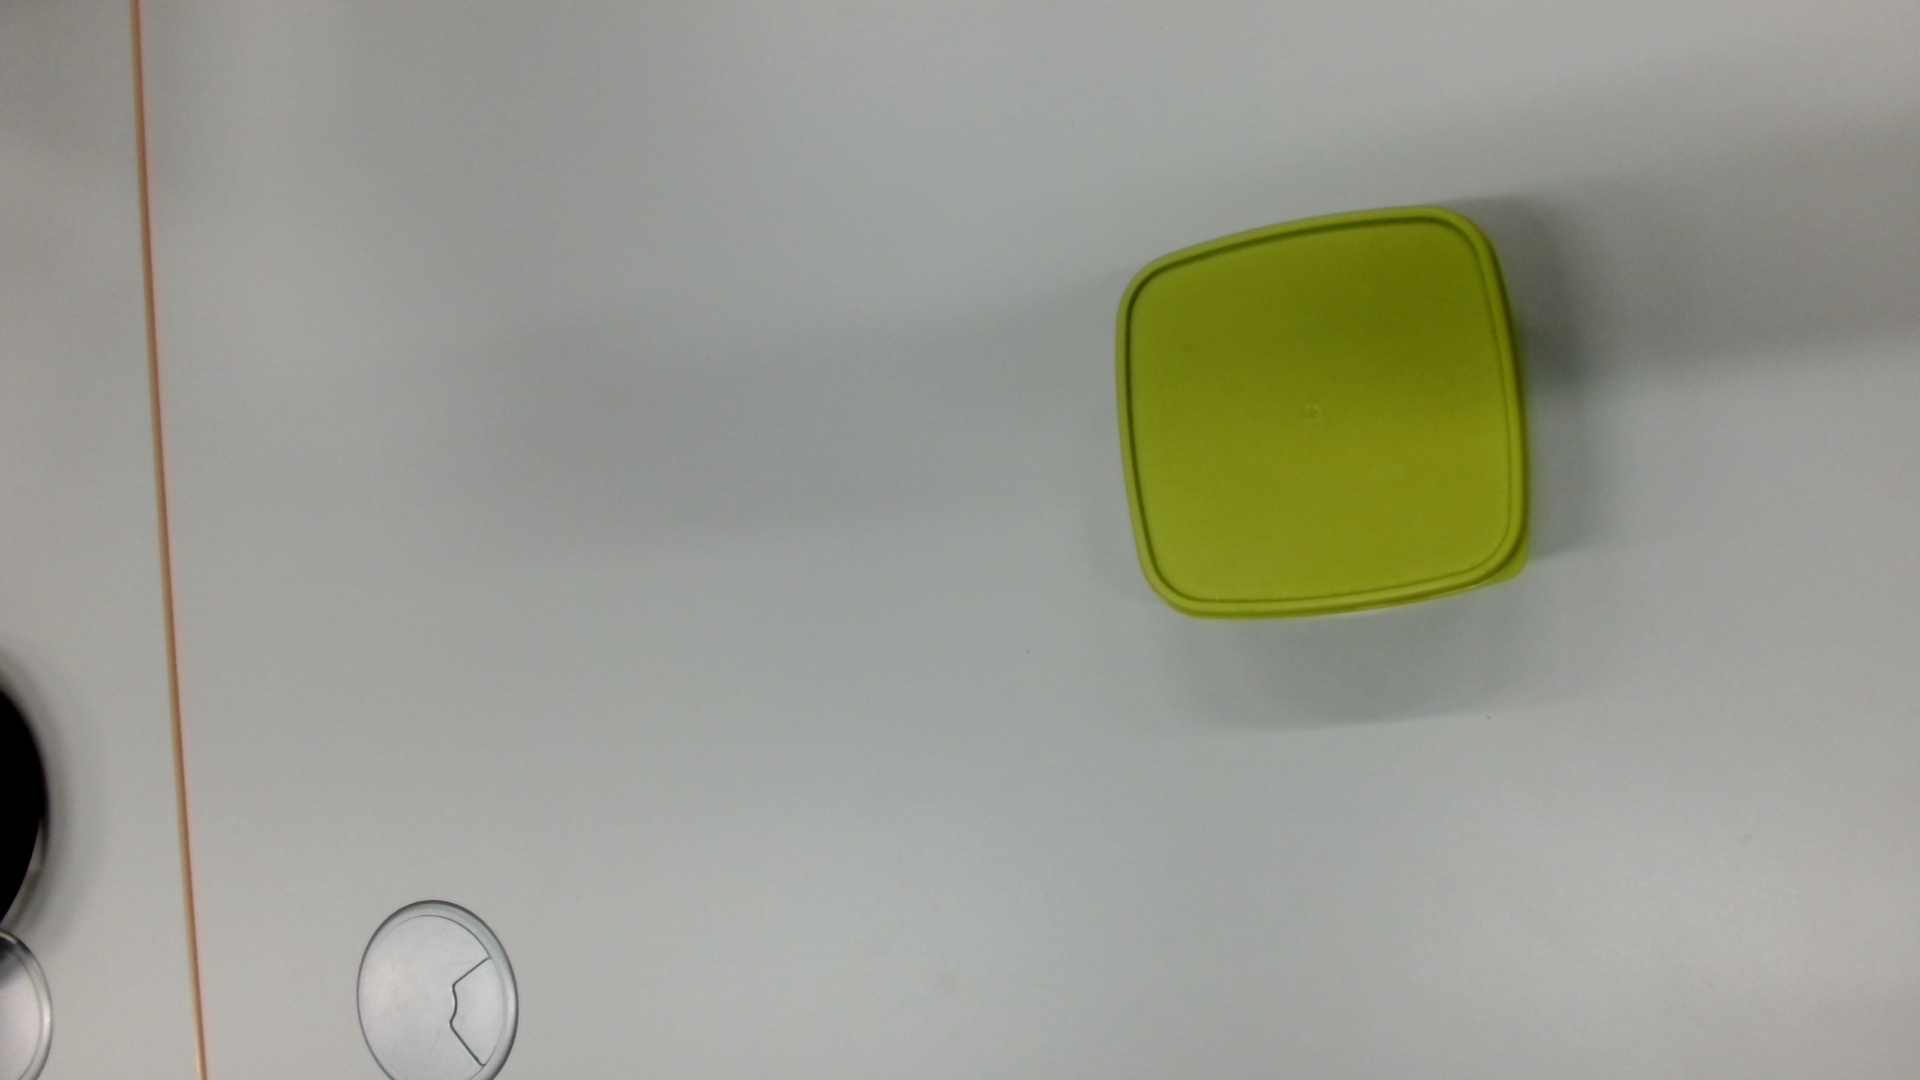Box: (1106, 196, 1542, 628)
